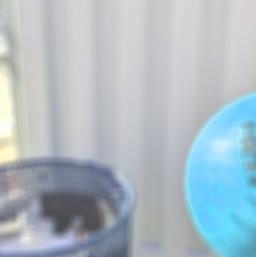algae: (179, 83, 256, 257)
